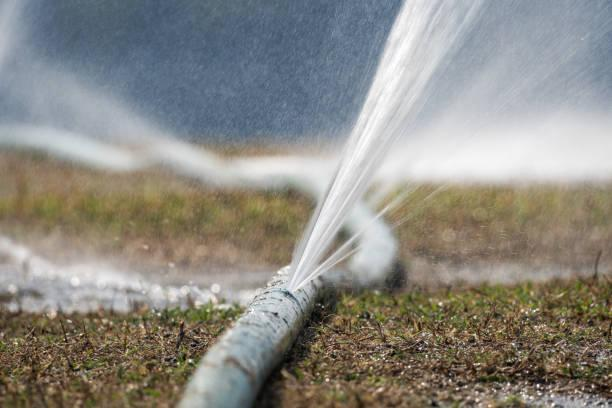pipe burst: (279, 0, 493, 302)
